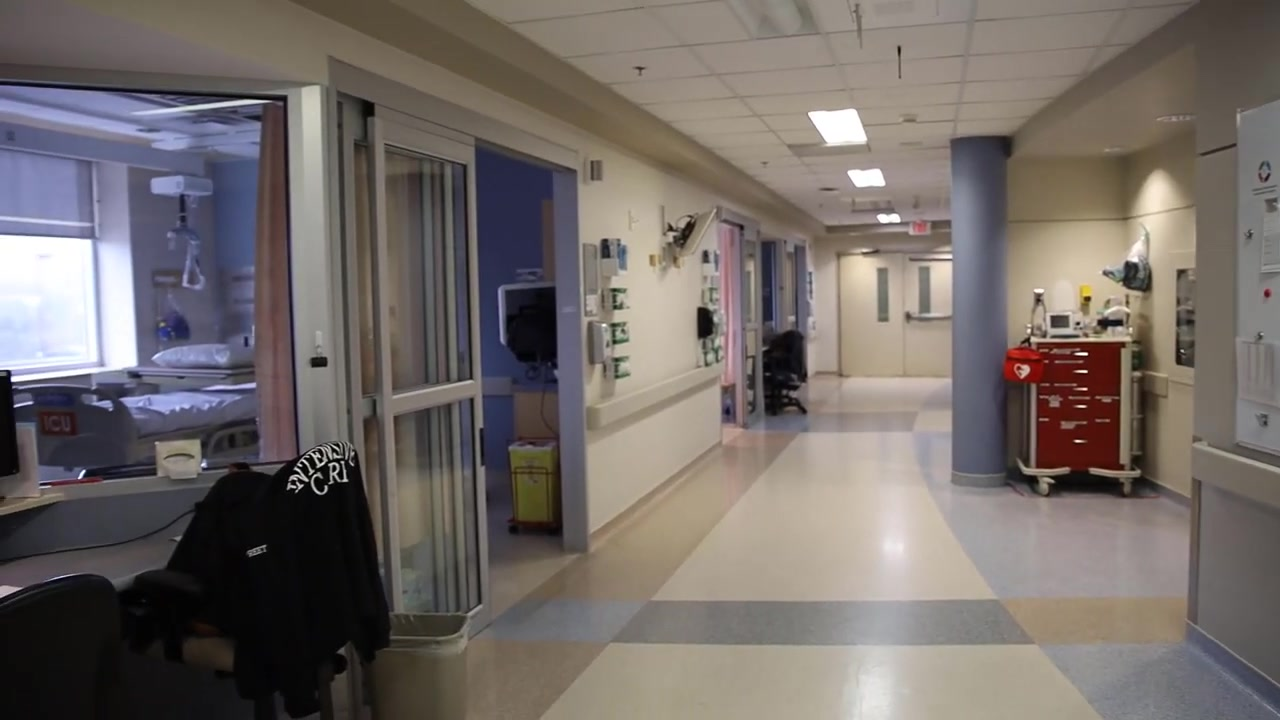TV: (676, 207, 717, 256)
bedrail: (202, 423, 259, 460)
bedside_monitor: (498, 279, 557, 350)
chair: (136, 441, 374, 720), (1, 571, 124, 720), (763, 334, 808, 416)
computer: (1, 369, 14, 477)
curtain: (253, 102, 296, 460), (719, 221, 742, 385)
dispenser: (601, 236, 631, 277), (587, 319, 612, 368), (603, 287, 632, 314), (695, 305, 714, 339), (608, 322, 634, 344), (608, 358, 634, 379)
foot_board: (14, 384, 136, 468)
hallway_assist_bar: (585, 358, 727, 431), (1191, 441, 1280, 511)
handle: (1072, 386, 1088, 393), (1073, 439, 1088, 446), (1073, 351, 1090, 357), (1072, 404, 1089, 410), (1072, 369, 1089, 374)
hospital_bed: (12, 337, 258, 469)
overbed_table: (123, 366, 255, 393)
push_latch: (906, 311, 954, 324)
utility_cart: (1015, 336, 1141, 477)
waste_bin: (370, 610, 471, 720), (509, 436, 560, 525)
